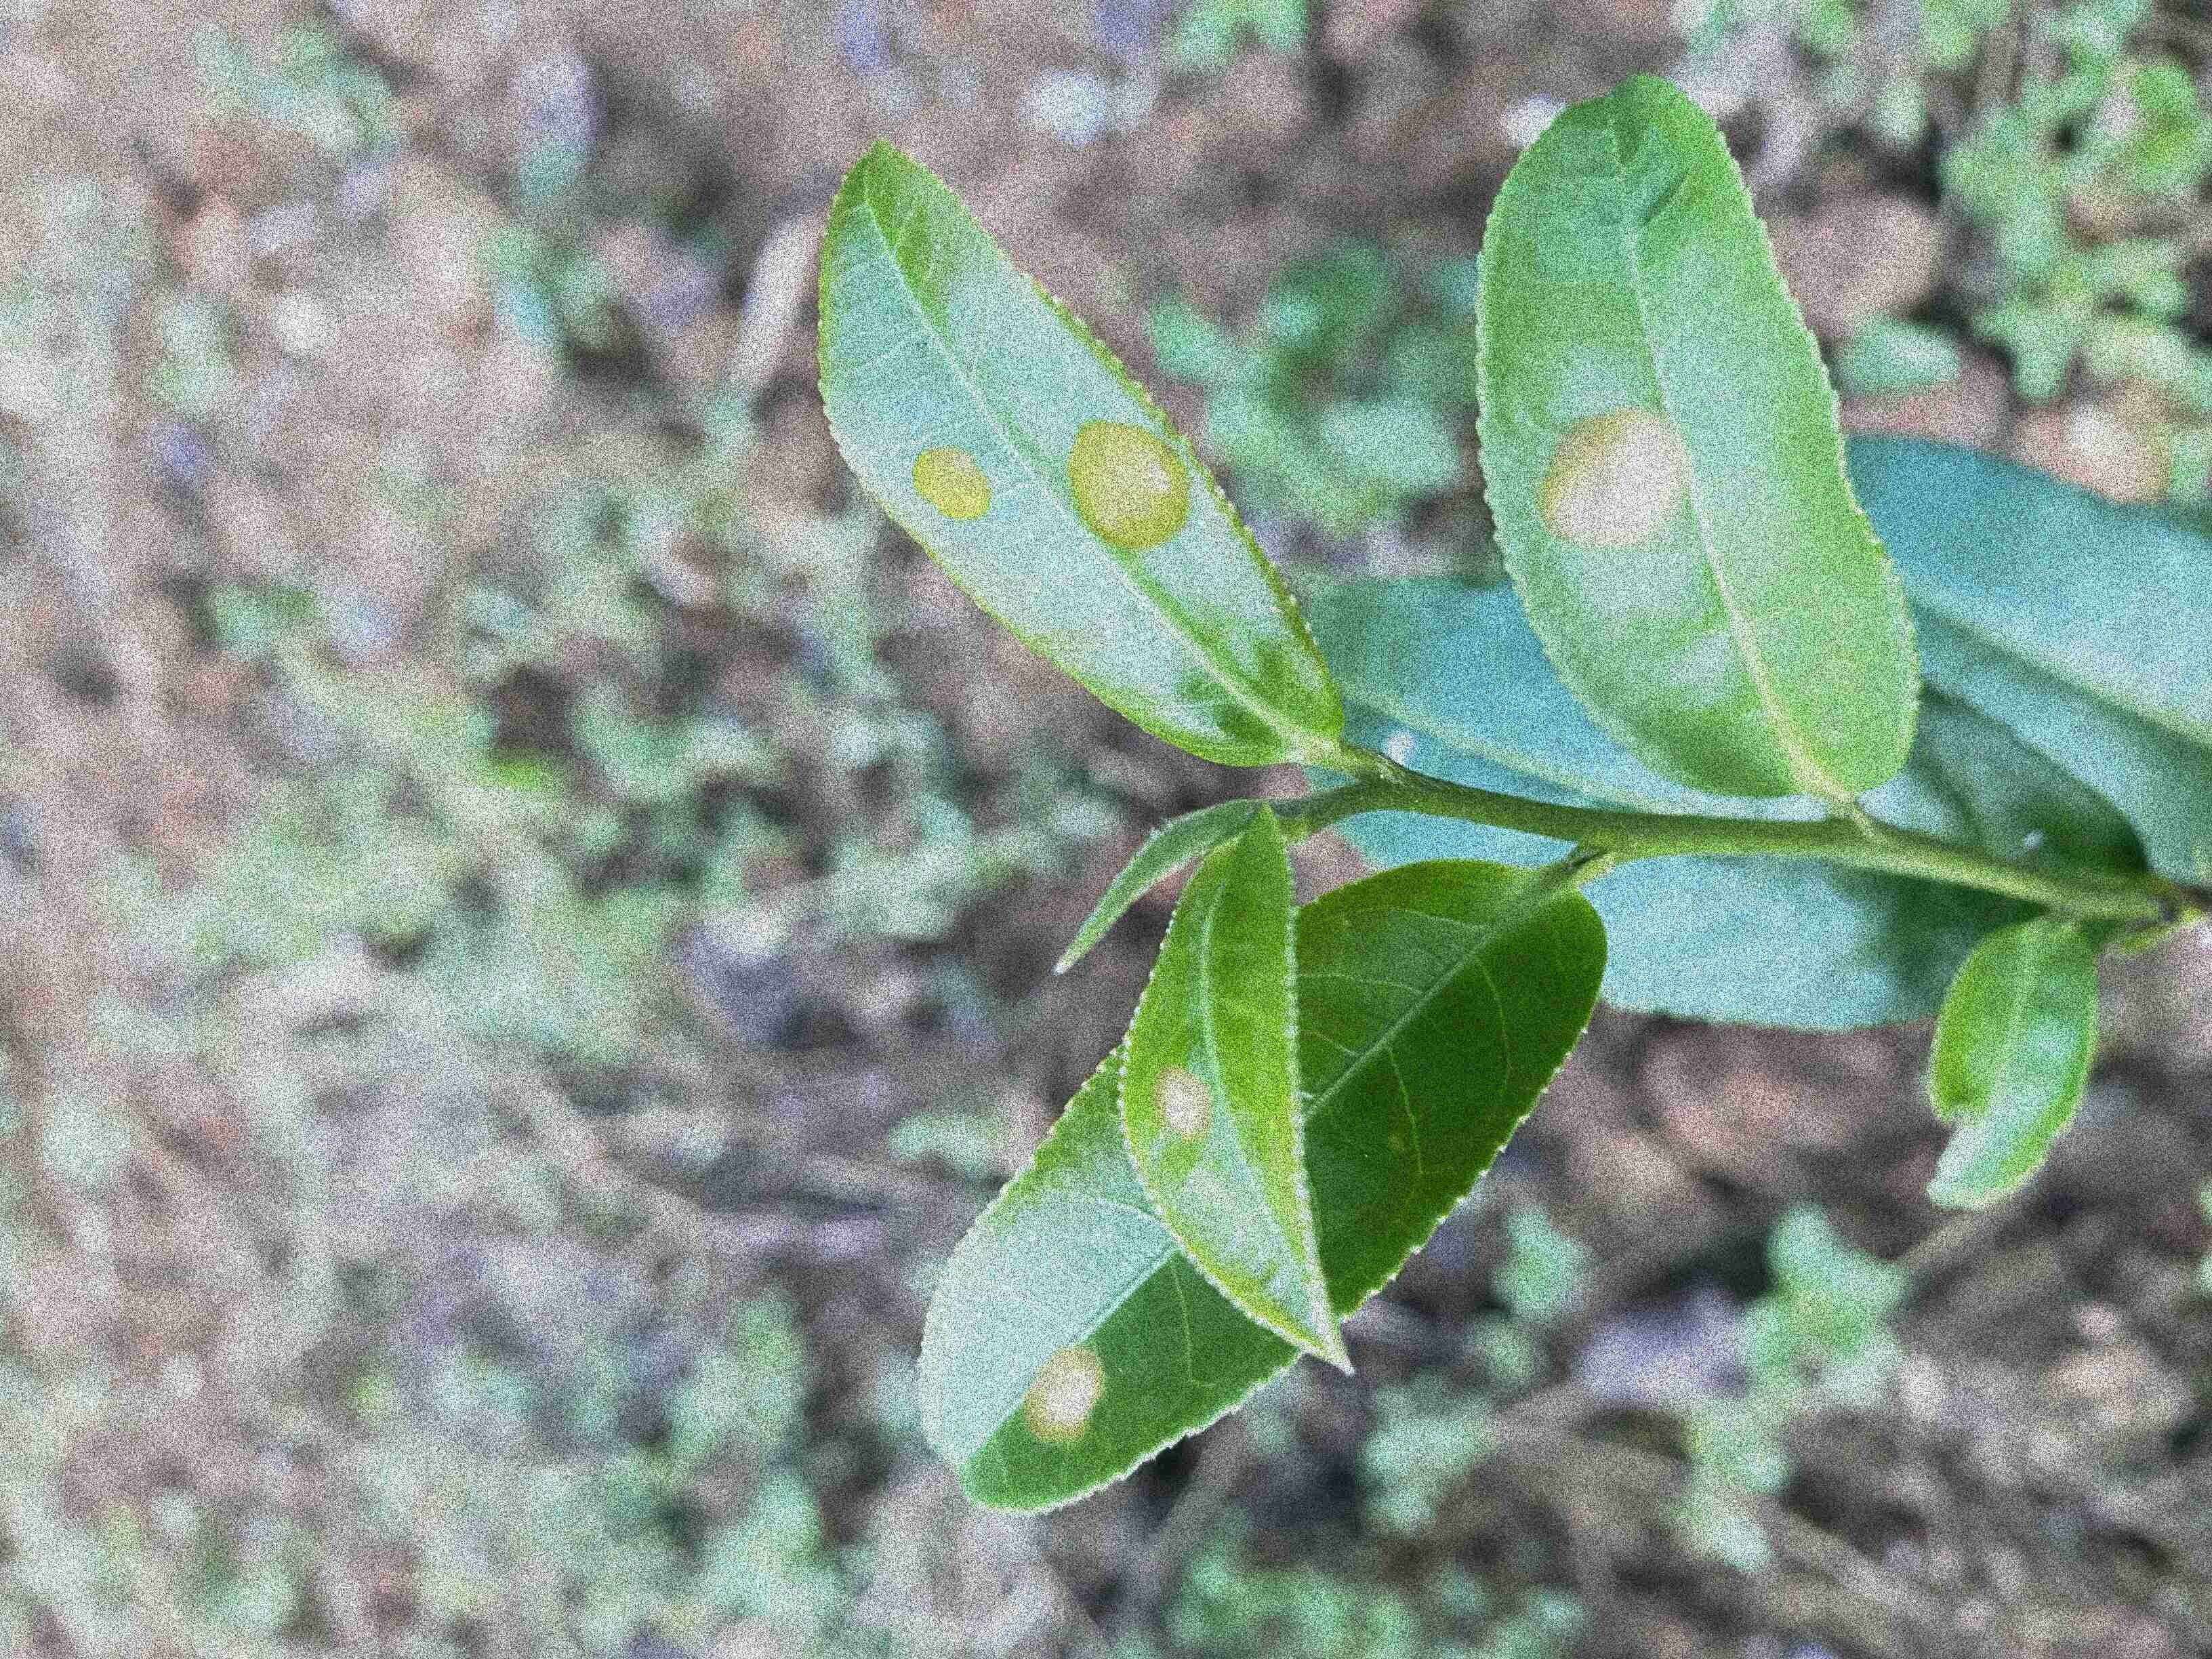chabing_high: (817, 132, 1348, 769)
chabing_low: (916, 859, 1609, 1518), (1474, 70, 1921, 803), (1116, 800, 1357, 1373)
